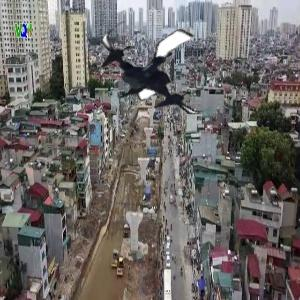drone: (95, 13, 214, 132)
